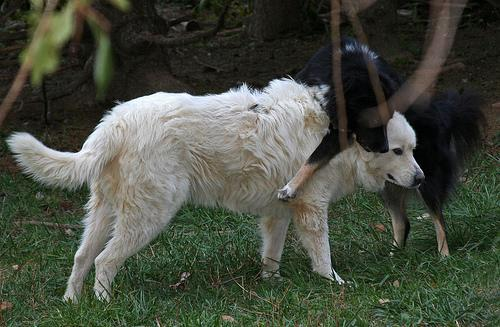Great_Pyrenees: (4, 74, 425, 307)
